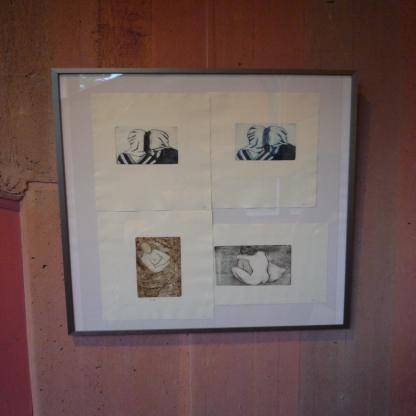Picture-frame: (51, 69, 352, 337)
